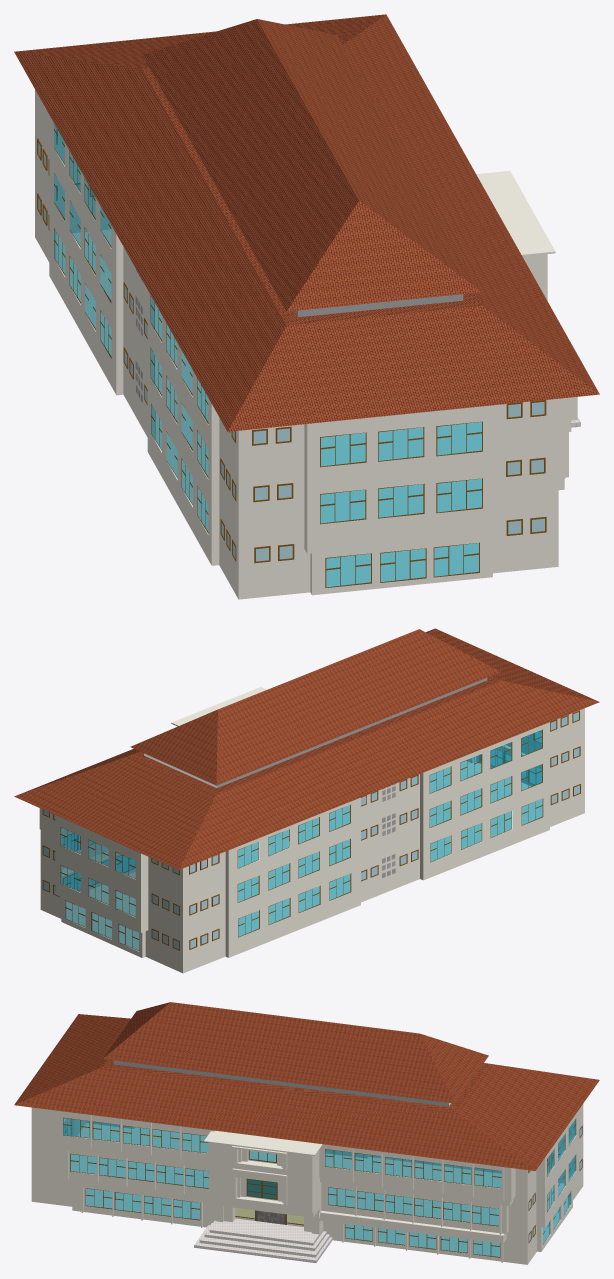
Rendered from gedung_hukum.glb.
3 views of the same model, one above another, from view 1: azimuth 30°, elevation 25°; view 2: azimuth 150°, elevation 25°; view 3: azimuth 270°, elevation 25° (orthographic). The views are drawn at different scales.
Visible parts, largest first — view 1: Object_9, Object_13, Object_14, Object_3, Object_8, Object_5; view 2: Object_9, Object_13, Object_14, Object_3, Object_8, Object_5, Object_2; view 3: Object_9, Object_13, Object_14, Object_3, Object_12, Object_5, Object_4.
Boxes of the visible parts, x1=… form: Object_9: x1=14, y1=14, x2=599, y2=431; Object_13: x1=35, y1=89, x2=577, y2=599; Object_14: x1=54, y1=124, x2=481, y2=587; Object_3: x1=37, y1=129, x2=546, y2=587; Object_8: x1=38, y1=142, x2=544, y2=561; Object_5: x1=295, y1=294, x2=463, y2=317; Object_9: x1=14, y1=628, x2=599, y2=870; Object_13: x1=39, y1=687, x2=584, y2=973; Object_14: x1=60, y1=730, x2=542, y2=950; Object_3: x1=42, y1=710, x2=580, y2=950; Object_8: x1=43, y1=712, x2=579, y2=949; Object_5: x1=144, y1=678, x2=487, y2=787; Object_2: x1=382, y1=784, x2=395, y2=878; Object_9: x1=14, y1=1002, x2=599, y2=1170; Object_13: x1=31, y1=1104, x2=583, y2=1264; Object_14: x1=63, y1=1118, x2=575, y2=1256; Object_3: x1=63, y1=1117, x2=582, y2=1257; Object_12: x1=194, y1=1218, x2=332, y2=1262; Object_5: x1=114, y1=1060, x2=450, y2=1106; Object_4: x1=66, y1=1118, x2=576, y2=1244.
Size of the model in its own units: 31.64 by 16.56 by 49.88.
Materials: 13 (7 with a texture image).
